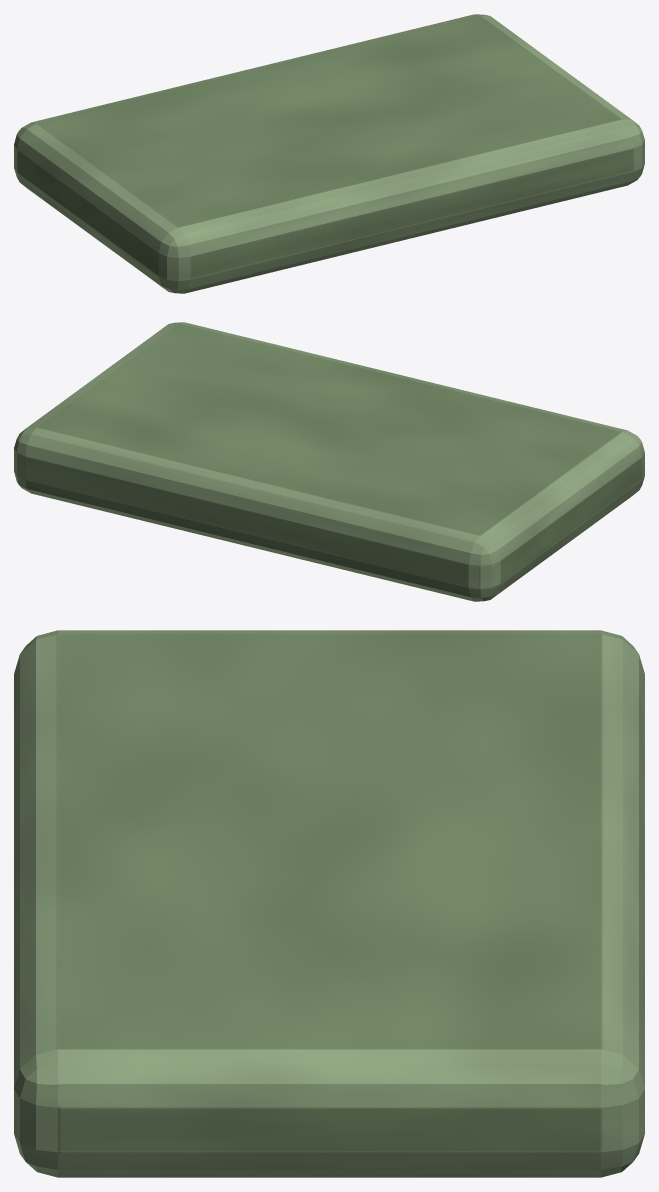
Rendered from 09_Seat_Cushion_1.fbx.
3 views of the same model, one above another, from view 1: azimuth 30°, elevation 25°; view 2: azimuth 150°, elevation 25°; view 3: azimuth 270°, elevation 25° (orthographic). The views are drawn at different scales.
Visible parts, largest first — view 1: 09_Seat_Cushion_1; view 2: 09_Seat_Cushion_1; view 3: 09_Seat_Cushion_1.
Boxes of the visible parts, x1=… form: 09_Seat_Cushion_1: x1=14, y1=14, x2=644, y2=293; 09_Seat_Cushion_1: x1=14, y1=322, x2=644, y2=601; 09_Seat_Cushion_1: x1=14, y1=630, x2=644, y2=1177.
Bounding box in the file's own units: 117 × 15 × 69.
1 material, 1 textured.
